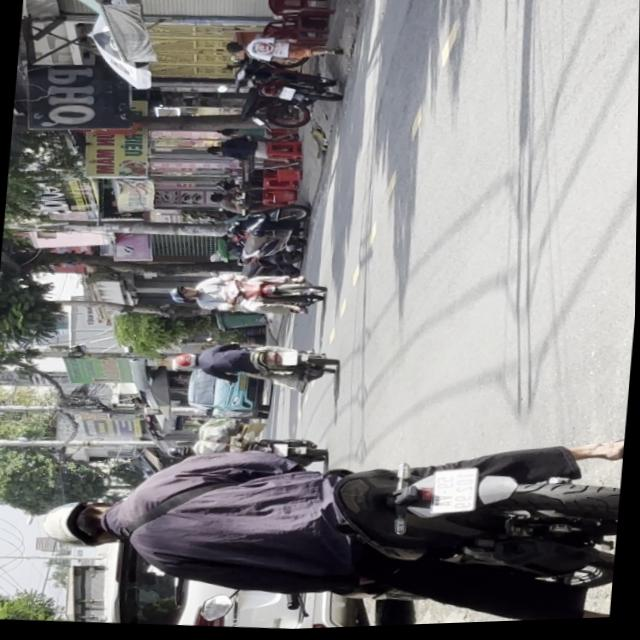helmet: (40, 495, 126, 552), (167, 285, 198, 304), (171, 353, 198, 370)
licenseplate: (26, 407, 620, 639), (169, 336, 338, 397), (165, 266, 328, 324)
nohelmet: (430, 468, 477, 518)
